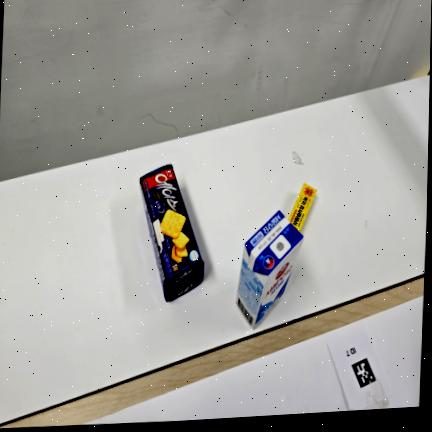cracker_ace: (139, 164, 204, 301)
gum_yellow: (288, 183, 316, 230)
milk_blue: (236, 210, 302, 328)
